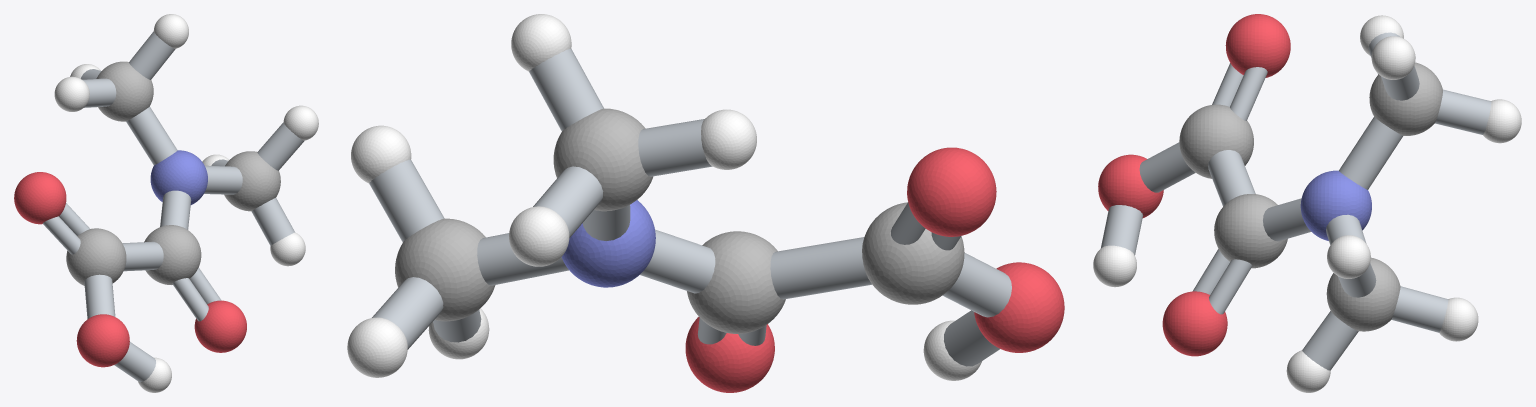
File: Dimetilaminooxoacetico.glb
The picture shows the model from 3 angles, left to right: view 1: azimuth 30°, elevation 25°; view 2: azimuth 150°, elevation 25°; view 3: azimuth 270°, elevation 25°; orthographic projection. The views are drawn at different scales.
Size of the model in its own units: 5.47 by 4.19 by 4.88.
